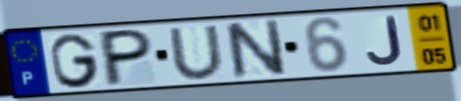6: (302, 14, 352, 76)
G: (48, 31, 103, 90)
J: (364, 14, 406, 67)
N: (221, 17, 290, 82)
P: (100, 27, 155, 89)
U: (165, 23, 228, 82)
